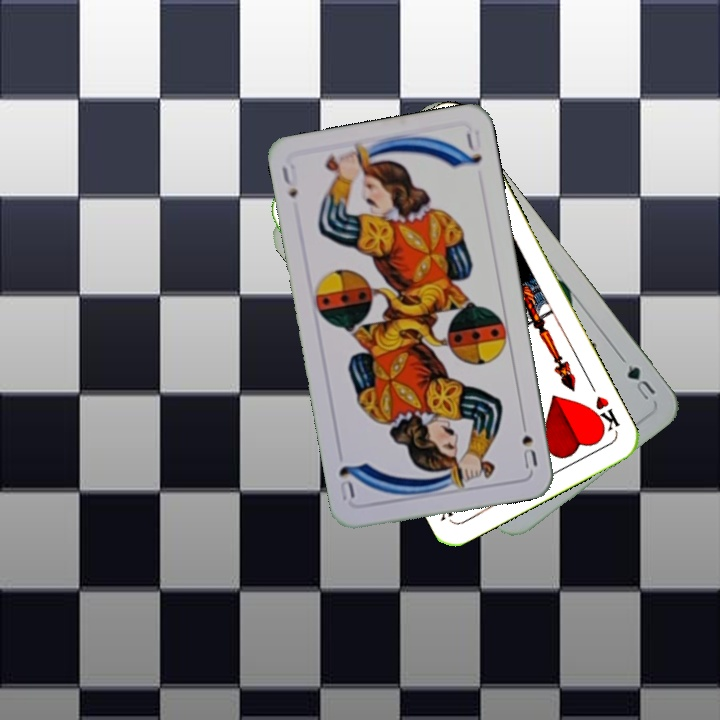GU: (622, 361, 658, 403)
HK: (586, 380, 623, 437)
SU: (517, 413, 540, 472), (277, 160, 301, 201)
